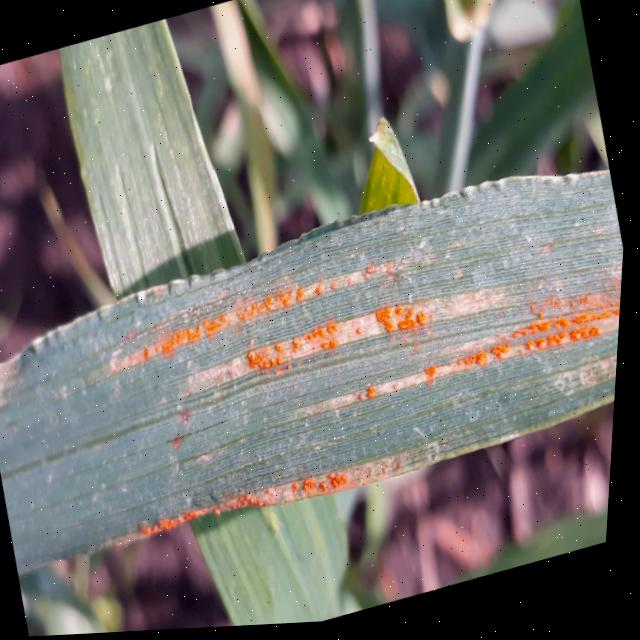yellow_rust: (0, 55, 636, 640)
